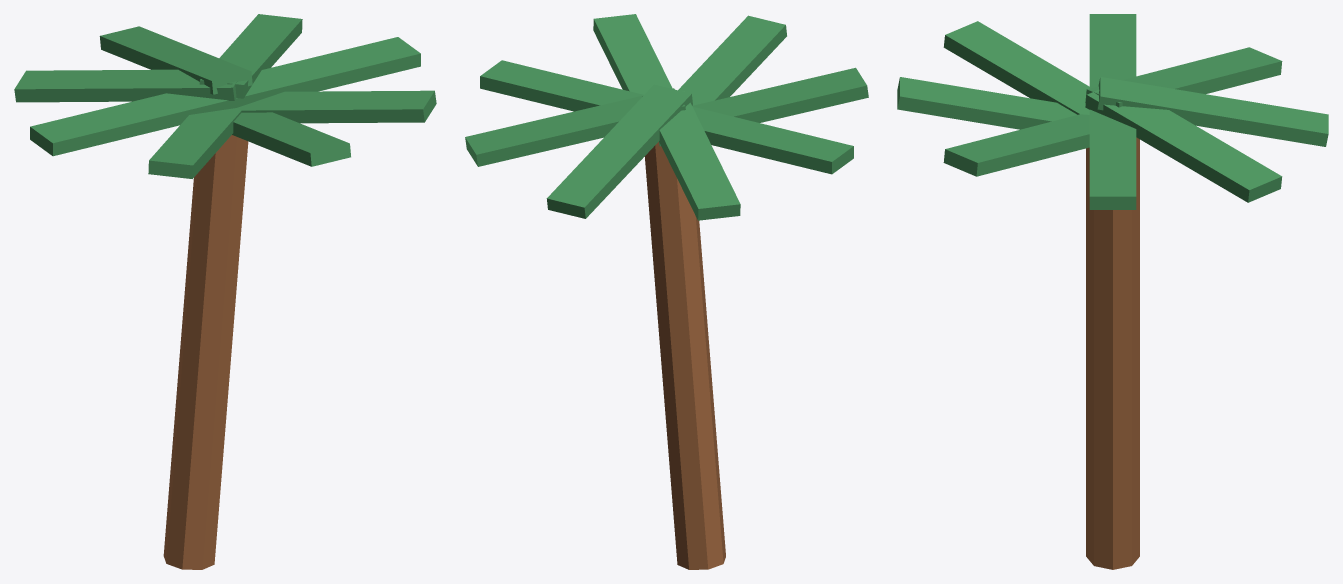
Rendered from tree_palm.glb.
3 views of the same model, side by side, from view 1: azimuth 30°, elevation 25°; view 2: azimuth 150°, elevation 25°; view 3: azimuth 270°, elevation 25° (orthographic). The views are drawn at different scales.
Visible parts, largest first — view 1: green, wood; view 2: green, wood; view 3: green, wood.
Boxes of the visible parts, x1,y1,x2,y2 form: green: (14, 14, 436, 178); wood: (163, 135, 248, 569); green: (465, 14, 868, 220); wood: (644, 142, 725, 569); green: (897, 14, 1328, 209); wood: (1086, 137, 1139, 569).
Bounding box in the file's own units: 3.54 × 4.43 × 3.53.
